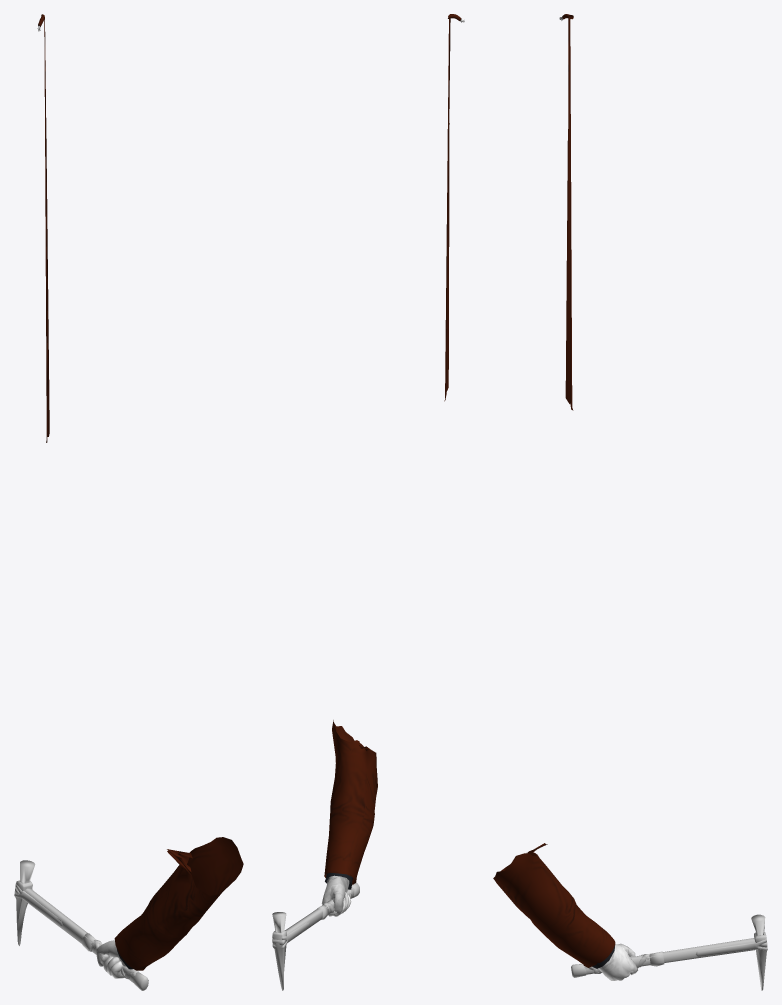
Rendered from frame_25.obj.
The picture shows the model from 3 angles, left to right: view 1: azimuth 30°, elevation 25°; view 2: azimuth 150°, elevation 25°; view 3: azimuth 270°, elevation 25°; orthographic projection. The views are drawn at different scales.
Visible parts, largest first — view 1: PlayerModelMerged.001_PlayerModelMerged, Cube.028; view 2: PlayerModelMerged.001_PlayerModelMerged, Cube.028; view 3: PlayerModelMerged.001_PlayerModelMerged, Cube.028.
Part boxes in pixels (box(x1,y1,x2,y2)): PlayerModelMerged.001_PlayerModelMerged: box(37, 14, 243, 978); Cube.028: box(14, 860, 148, 990); PlayerModelMerged.001_PlayerModelMerged: box(321, 14, 464, 916); Cube.028: box(272, 883, 359, 990); PlayerModelMerged.001_PlayerModelMerged: box(493, 14, 637, 980); Cube.028: box(571, 914, 767, 990).
Size of the model in its own units: 0.7296 by 4.15 by 1.1.
